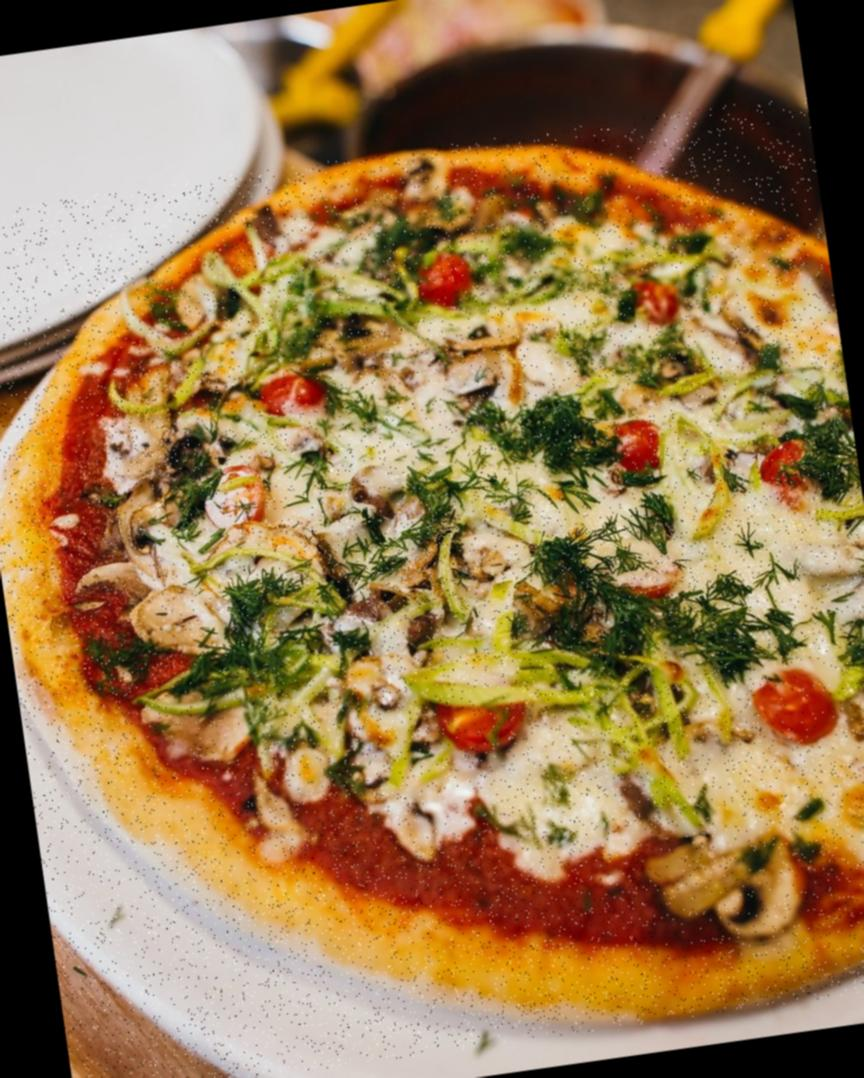Mushroom: (82, 476, 239, 666), (642, 821, 818, 958), (130, 677, 268, 774), (97, 360, 192, 476), (363, 532, 467, 609), (278, 518, 353, 610), (344, 459, 400, 519)
Pizza: (0, 94, 864, 1078)
Tomatoes: (753, 656, 844, 751), (432, 682, 534, 762), (200, 461, 273, 538), (598, 414, 667, 480), (415, 248, 480, 314), (258, 361, 328, 416), (607, 564, 685, 610), (753, 434, 814, 487), (630, 270, 686, 325)
